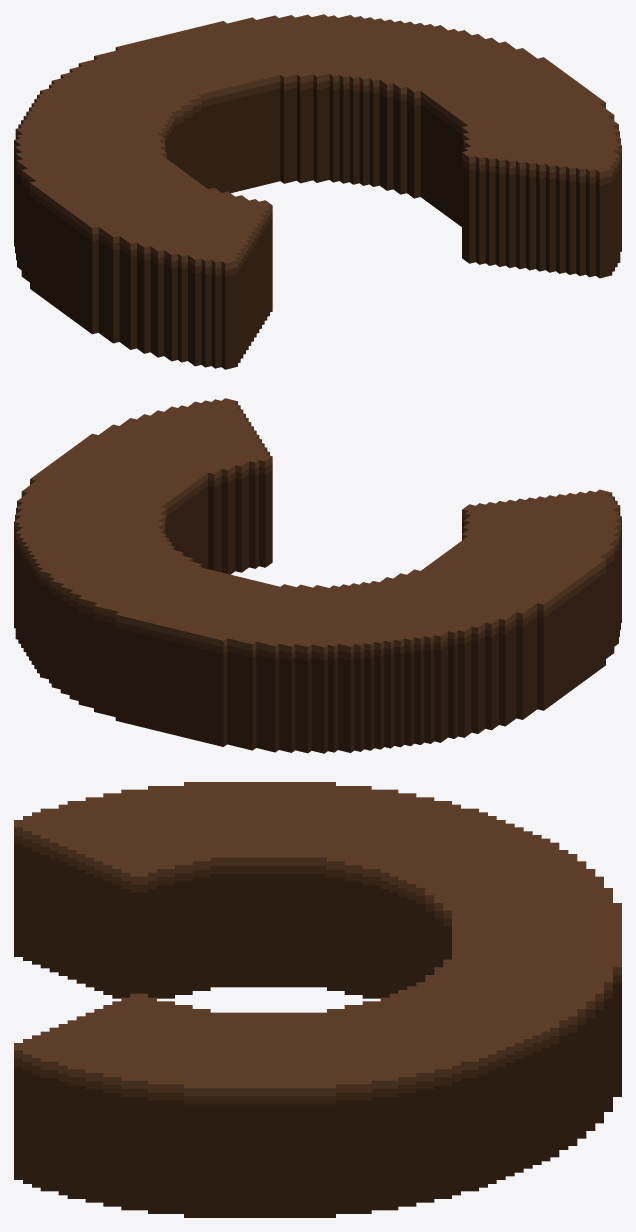
File: carousel.obj
3 renders of one model, top to bottom at view 1: azimuth 30°, elevation 25°; view 2: azimuth 150°, elevation 25°; view 3: azimuth 270°, elevation 25°, orthographic. The views are drawn at different scales.
Bounding box in the file's own units: 81 × 16 × 68.
Materials: 1 (1 with a texture image).
